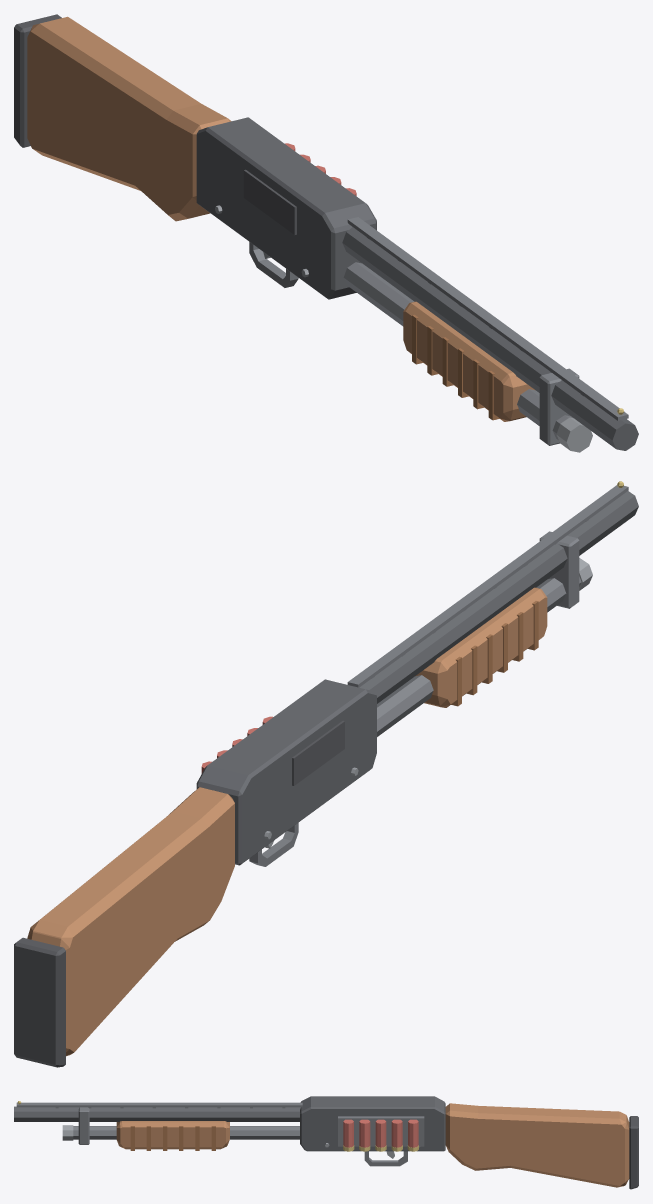
File: weapon_breacher_12.fbx
3 views of the same model, one above another, from view 1: azimuth 30°, elevation 25°; view 2: azimuth 150°, elevation 25°; view 3: azimuth 270°, elevation 25° (orthographic). The views are drawn at different scales.
Visible parts, largest first — view 1: weapon_breacher_12; view 2: weapon_breacher_12; view 3: weapon_breacher_12.
Part boxes in pixels (x1=…): weapon_breacher_12: x1=14, y1=14, x2=638, y2=452; weapon_breacher_12: x1=14, y1=481, x2=638, y2=1067; weapon_breacher_12: x1=14, y1=1096, x2=638, y2=1189.
Bounding box in the file's own units: 0.0825 × 0.1706 × 1.16.
